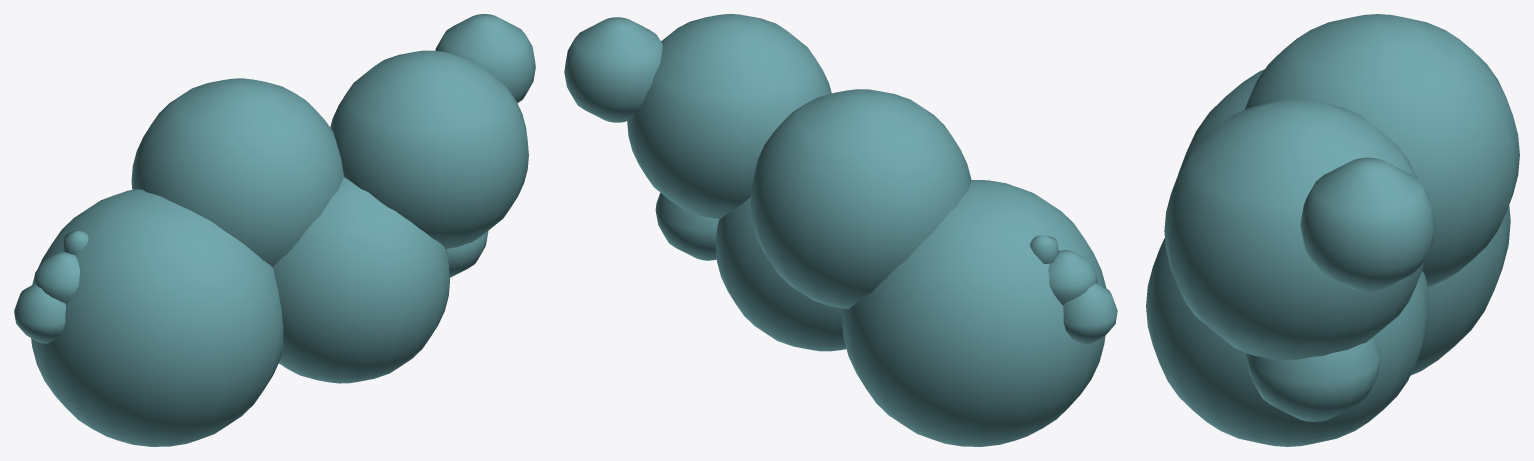
Rendered from Cloud_B.fbx.
3 views of the same model, side by side, from view 1: azimuth 30°, elevation 25°; view 2: azimuth 150°, elevation 25°; view 3: azimuth 270°, elevation 25° (orthographic). The views are drawn at different scales.
Visible parts, largest first — view 1: Cloud_B; view 2: Cloud_B; view 3: Cloud_B.
Part boxes in pixels (box(x1,y1,x2,y2)): Cloud_B: box(14, 14, 535, 446); Cloud_B: box(564, 14, 1117, 446); Cloud_B: box(1146, 14, 1519, 446).
Bounding box in the file's own units: 355 × 214 × 169.
